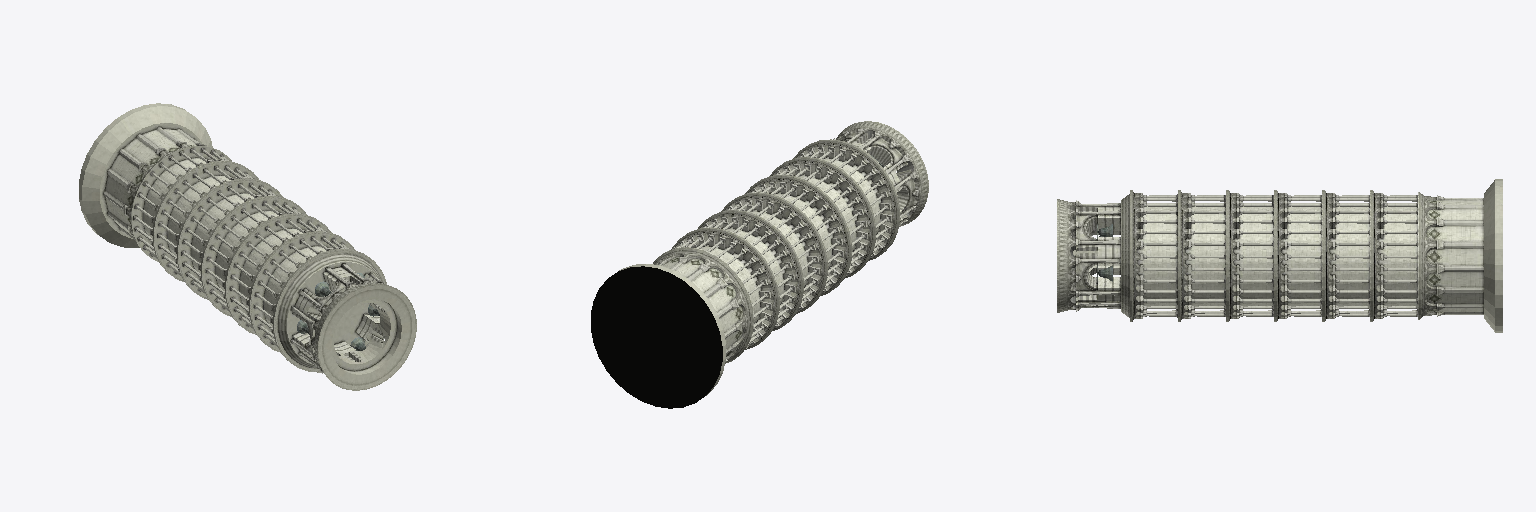
3 renders of one model, left to right at view 1: azimuth 30°, elevation 25°; view 2: azimuth 150°, elevation 25°; view 3: azimuth 270°, elevation 25°, orthographic.
Visible parts, largest first — view 1: 10076_pisa_tower; view 2: 10076_pisa_tower; view 3: 10076_pisa_tower.
Boxes of the visible parts, x1,y1,x2,y2 form: 10076_pisa_tower: [79, 103, 416, 390]; 10076_pisa_tower: [591, 121, 928, 408]; 10076_pisa_tower: [1057, 179, 1502, 332].
Bounding box in the file's own units: 1910 × 1919 × 5578.
Materials: 1 (1 with a texture image).